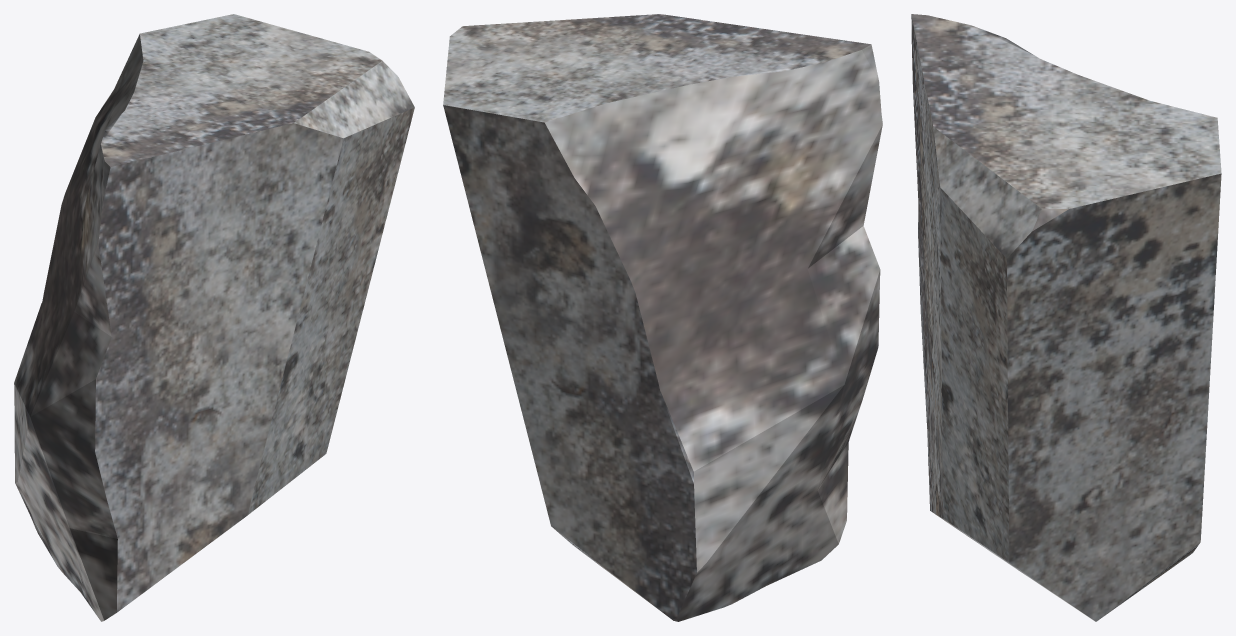
File: Asteroid_Large_001_02_005_03_005.fbx
3 renders of one model, left to right at view 1: azimuth 30°, elevation 25°; view 2: azimuth 150°, elevation 25°; view 3: azimuth 270°, elevation 25°, orthographic. The views are drawn at different scales.
Visible parts, largest first — view 1: Asteroid_Large_001_02_005_03_005; view 2: Asteroid_Large_001_02_005_03_005; view 3: Asteroid_Large_001_02_005_03_005.
Part boxes in pixels (x1=…): Asteroid_Large_001_02_005_03_005: x1=14, y1=14, x2=414, y2=621; Asteroid_Large_001_02_005_03_005: x1=443, y1=14, x2=882, y2=621; Asteroid_Large_001_02_005_03_005: x1=911, y1=14, x2=1221, y2=621.
Bounding box in the file's own units: 8.47 × 10.47 × 5.64.
